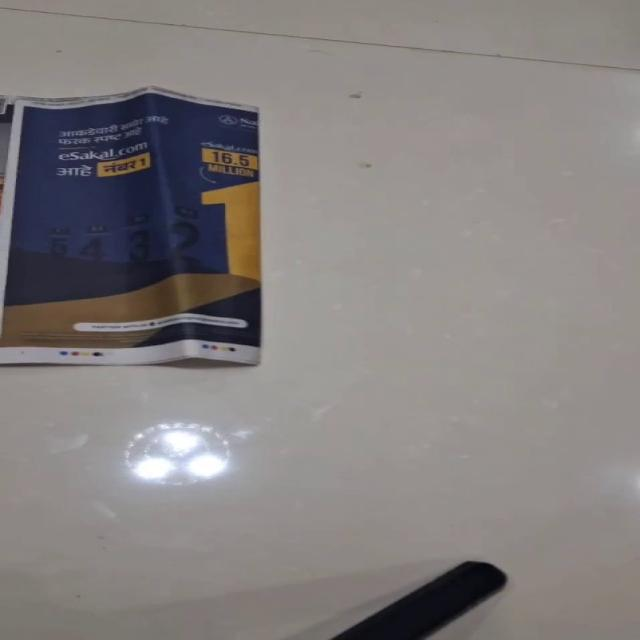paper: (0, 85, 262, 366)
